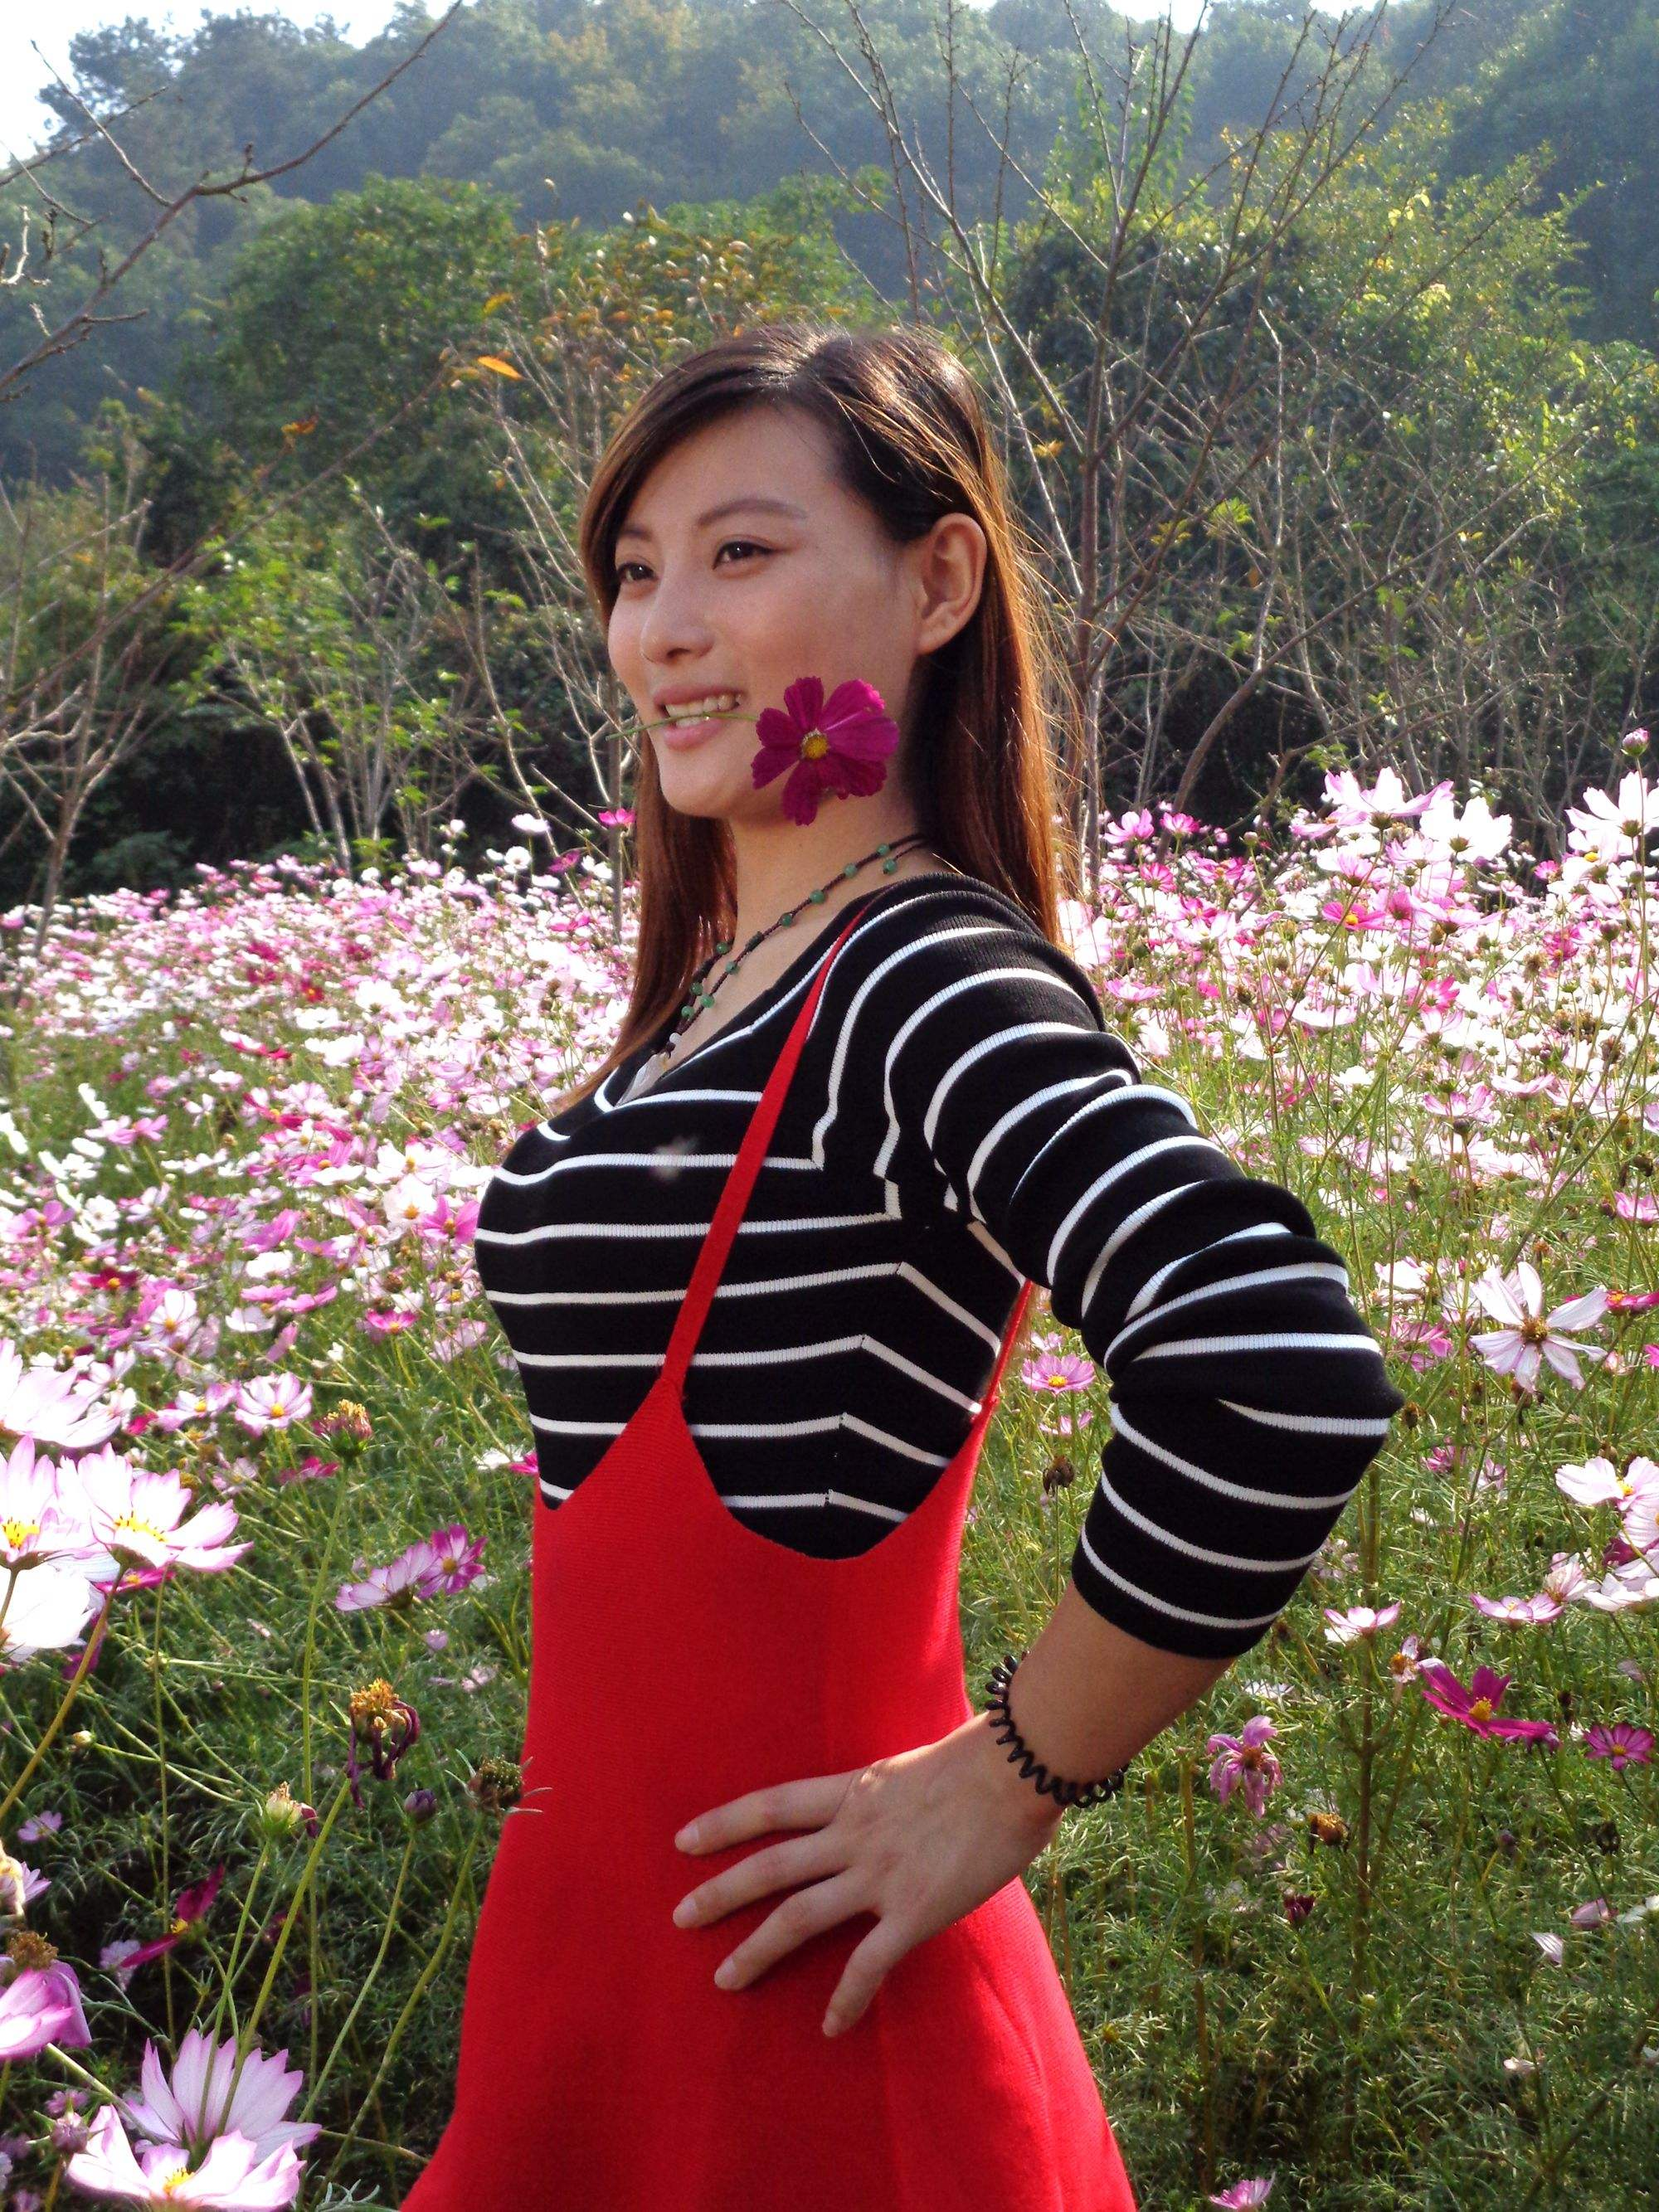person: (441, 284, 1285, 2212)
